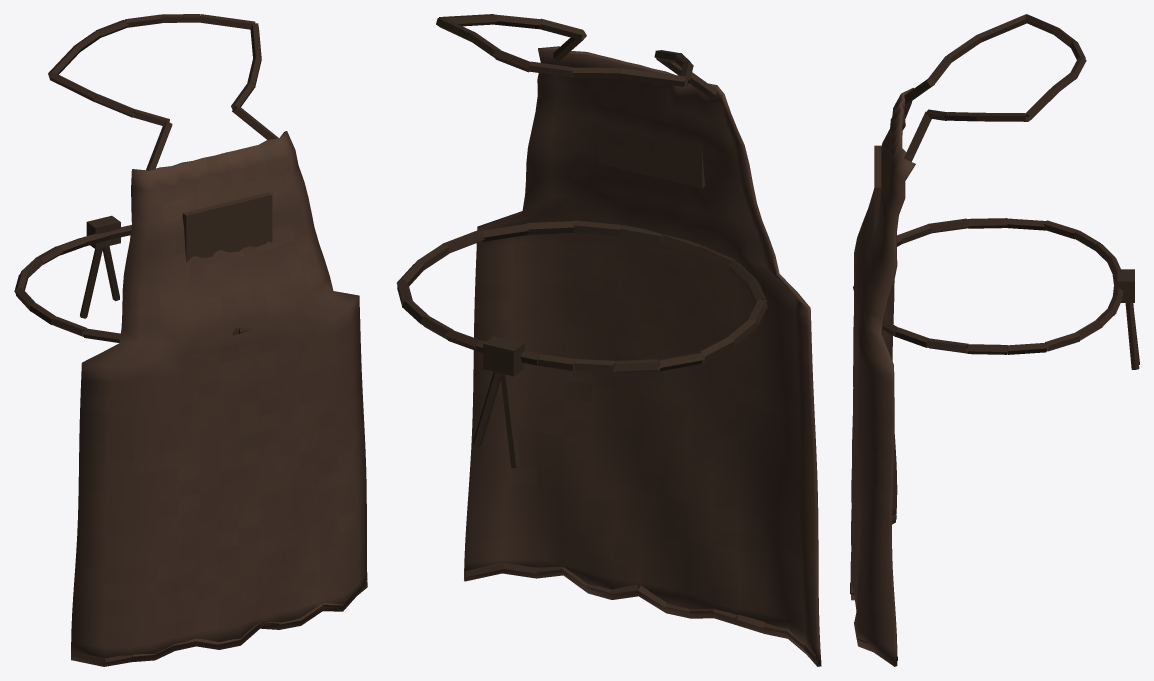
Rendered from delantal_ceferino.glb.
3 views of the same model, side by side, from view 1: azimuth 30°, elevation 25°; view 2: azimuth 150°, elevation 25°; view 3: azimuth 270°, elevation 25° (orthographic). The views are drawn at different scales.
Parts seen in each view (by area): view 1: delantal_ceferino; view 2: delantal_ceferino; view 3: delantal_ceferino.
Part boxes in pixels (left/top/right/bottom): delantal_ceferino: left=14, top=14, right=367, bottom=666; delantal_ceferino: left=396, top=14, right=821, bottom=666; delantal_ceferino: left=850, top=14, right=1139, bottom=666.
Bounding box in the file's own units: 0.5881 × 1.02 × 0.4949.
